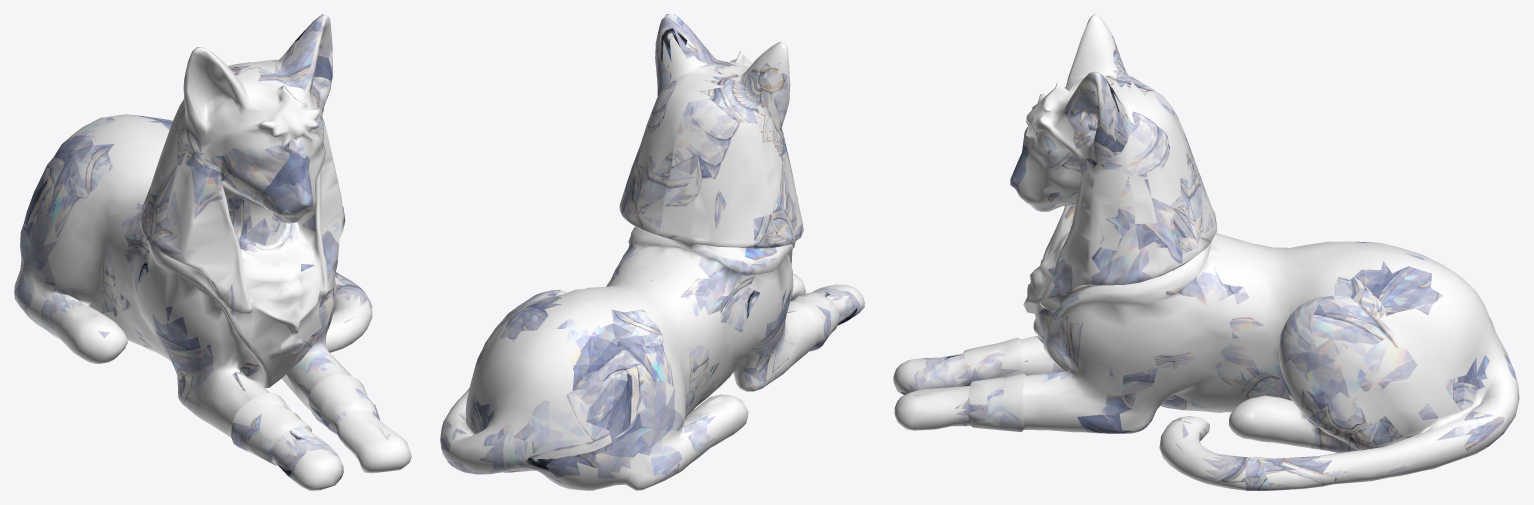
File: gilded_sphinx_basic_7500tris.fbx
3 views of the same model, side by side, from view 1: azimuth 30°, elevation 25°; view 2: azimuth 150°, elevation 25°; view 3: azimuth 270°, elevation 25° (orthographic). The views are drawn at different scales.
Visible parts, largest first — view 1: gilded_sphinx_basic_decimated; view 2: gilded_sphinx_basic_decimated; view 3: gilded_sphinx_basic_decimated.
Boxes of the visible parts, <box> form: gilded_sphinx_basic_decimated: <box>14,14,411,490</box>; gilded_sphinx_basic_decimated: <box>440,14,864,490</box>; gilded_sphinx_basic_decimated: <box>893,14,1519,490</box>.
Bounding box in the file's own units: 0.9746 × 1.23 × 1.91.
